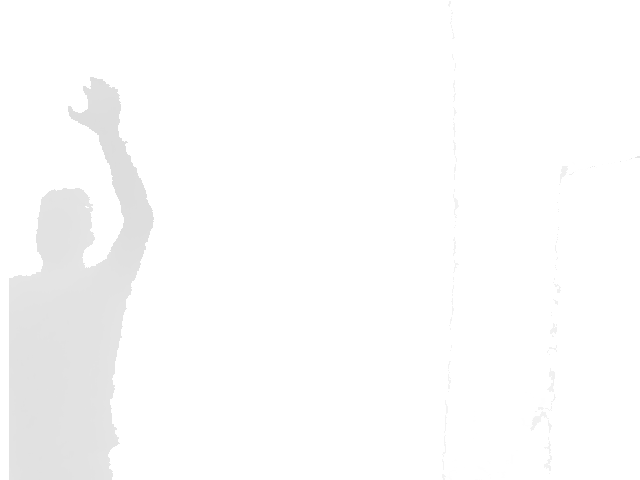hand: (66, 74, 123, 132)
head: (34, 187, 98, 269)
person: (8, 75, 156, 480)
